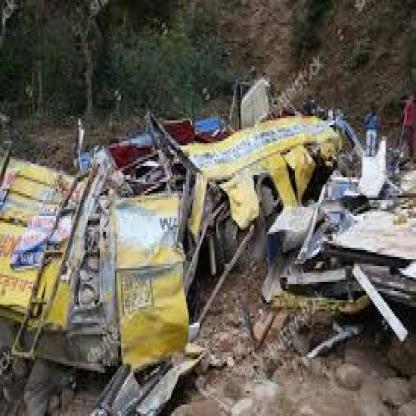accident: (0, 106, 416, 388)
